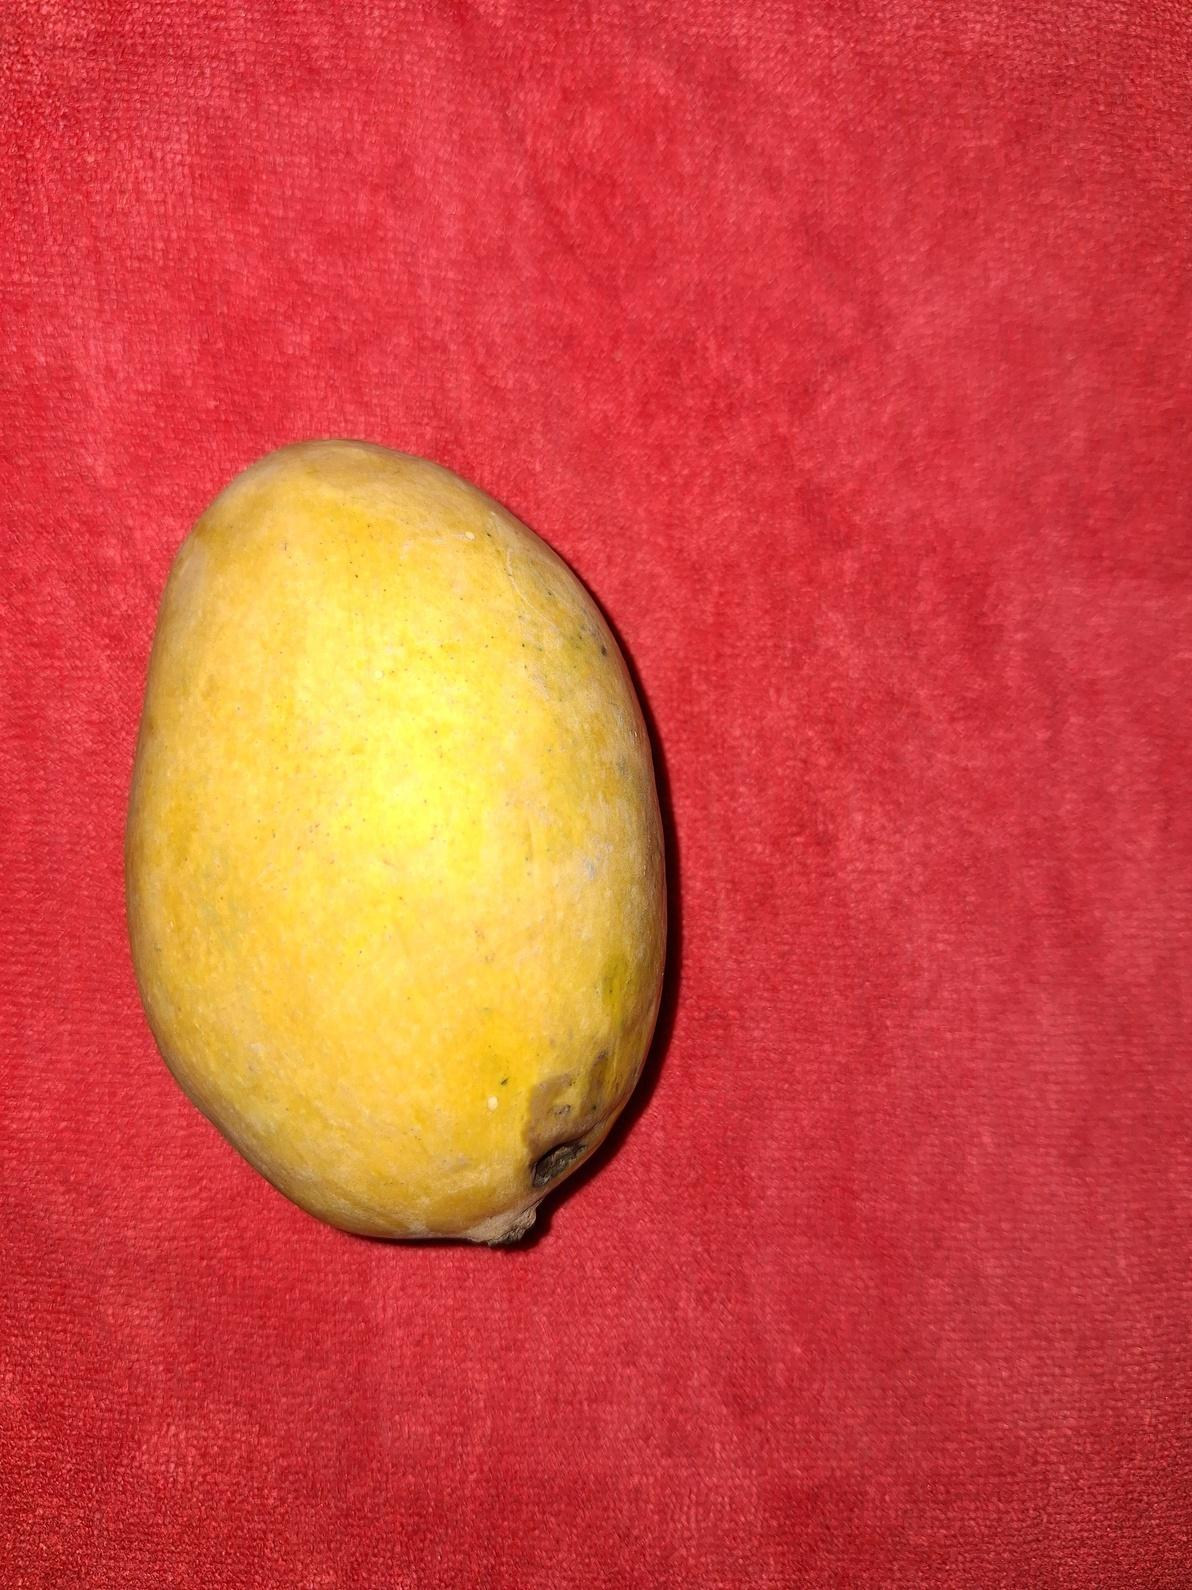mango: (123, 434, 669, 1247)
